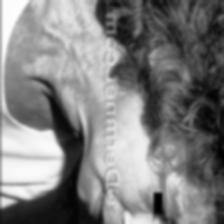Toxin: (68, 30, 98, 74)
